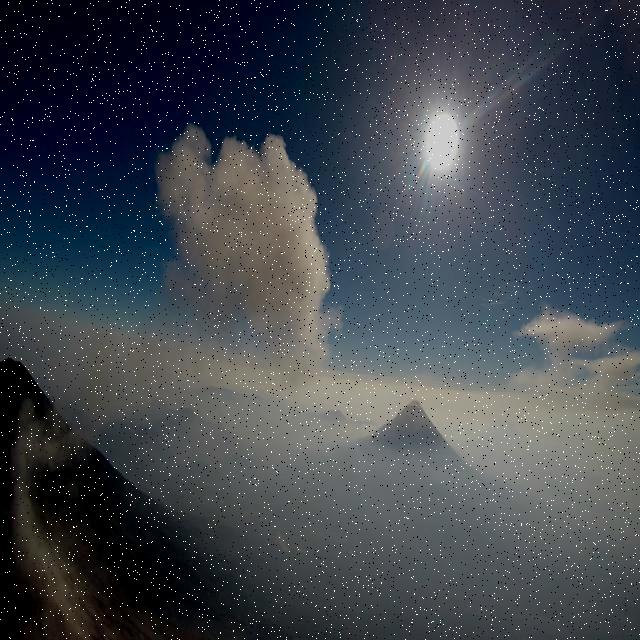Plume: (152, 116, 339, 398)
